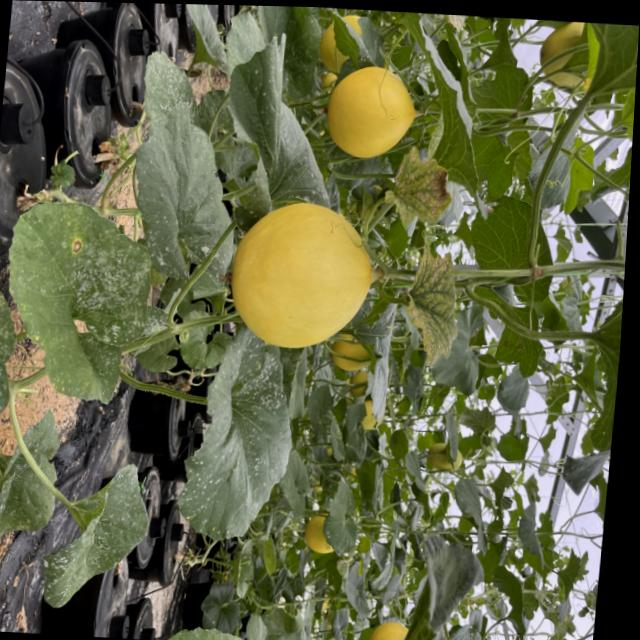CMV: (396, 241, 462, 367), (432, 14, 467, 40)
alternaria leaf blight: (388, 148, 456, 239)
downy mildew: (172, 311, 306, 551), (122, 105, 247, 297), (215, 42, 340, 226), (34, 455, 155, 619), (0, 408, 64, 560), (243, 6, 323, 110)
healthy: (524, 19, 640, 120), (577, 235, 627, 466), (463, 197, 557, 306), (393, 543, 487, 640), (349, 280, 406, 423), (429, 301, 492, 391), (494, 297, 549, 395), (172, 4, 231, 76), (594, 110, 634, 214), (562, 124, 600, 219), (552, 268, 590, 353), (576, 582, 597, 640)
powdery mildew: (0, 179, 166, 402), (0, 261, 22, 453)
